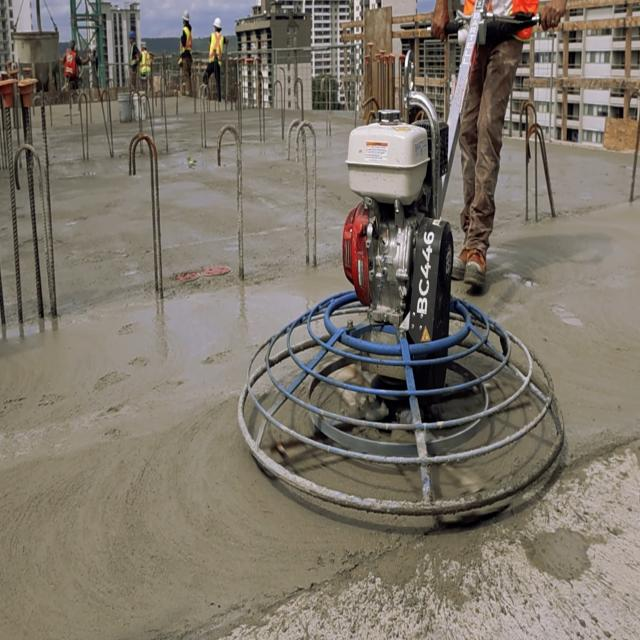Boots: (450, 226, 488, 294)
Helmet: (212, 16, 222, 30)
Vest: (178, 22, 194, 61), (138, 48, 151, 82), (63, 48, 76, 80), (210, 32, 222, 62)
